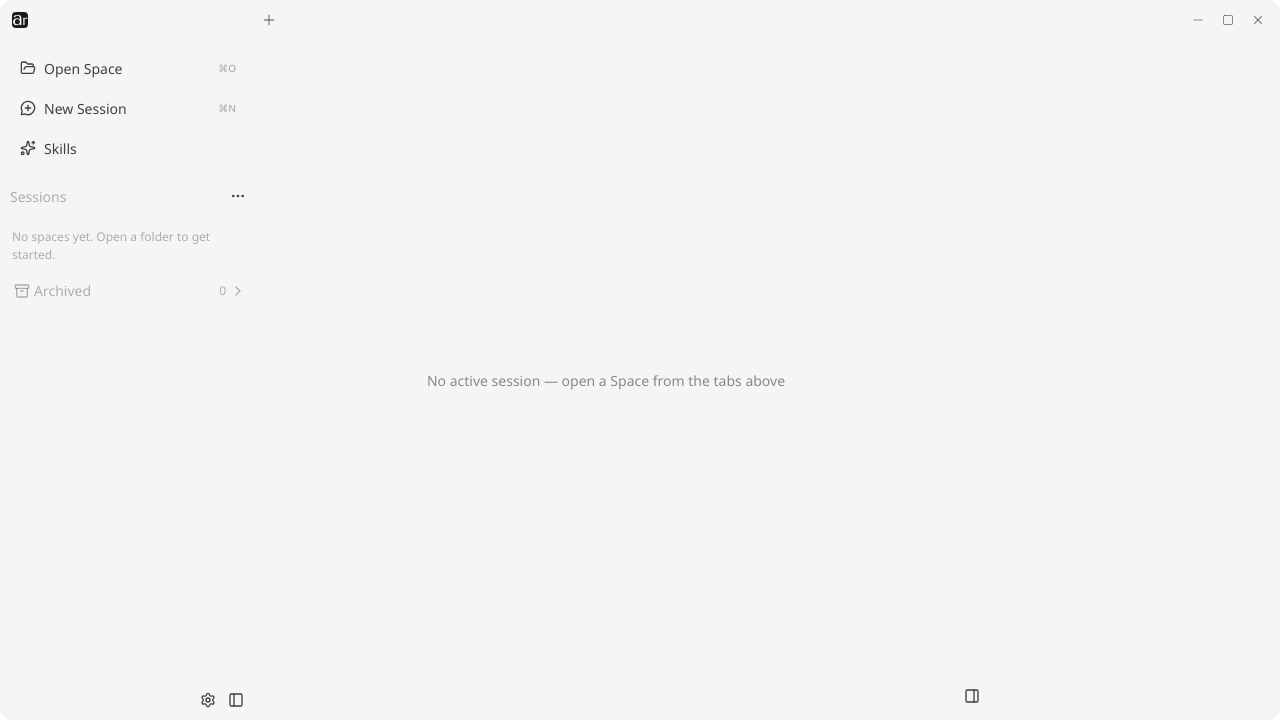
Scenario: App (the gear icon + settings view swap) › the_gear_icon_swaps_to_the_settings_view
Expected: the text "Sessions" is shown, 10,186 -> 66,206
The gear icon (the left sidebar footer) opens the settings view.
Click the button named "Settings" at (212, 700), box 200,688 -> 224,712
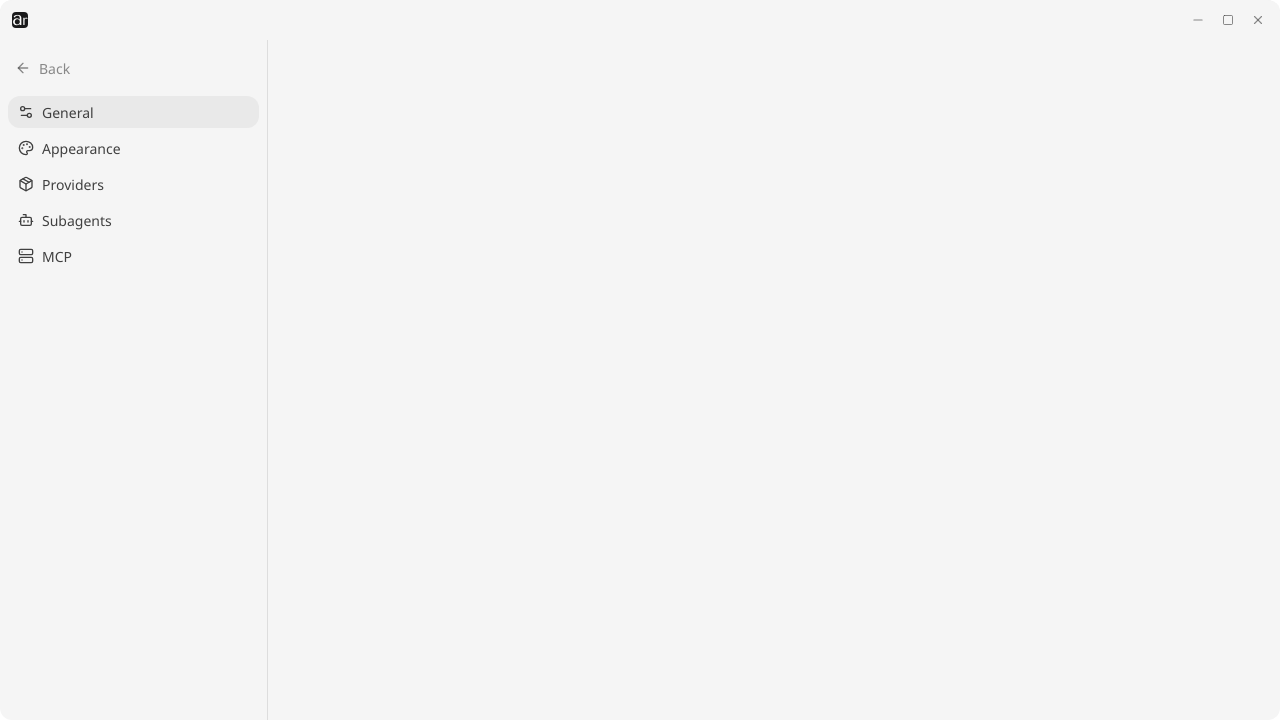
Expected: the text "General" is shown, 42,103 -> 94,122
Expected: the text "Appearance" is shown, 42,139 -> 120,158
Expected: the text "Providers" is shown, 42,175 -> 104,194
